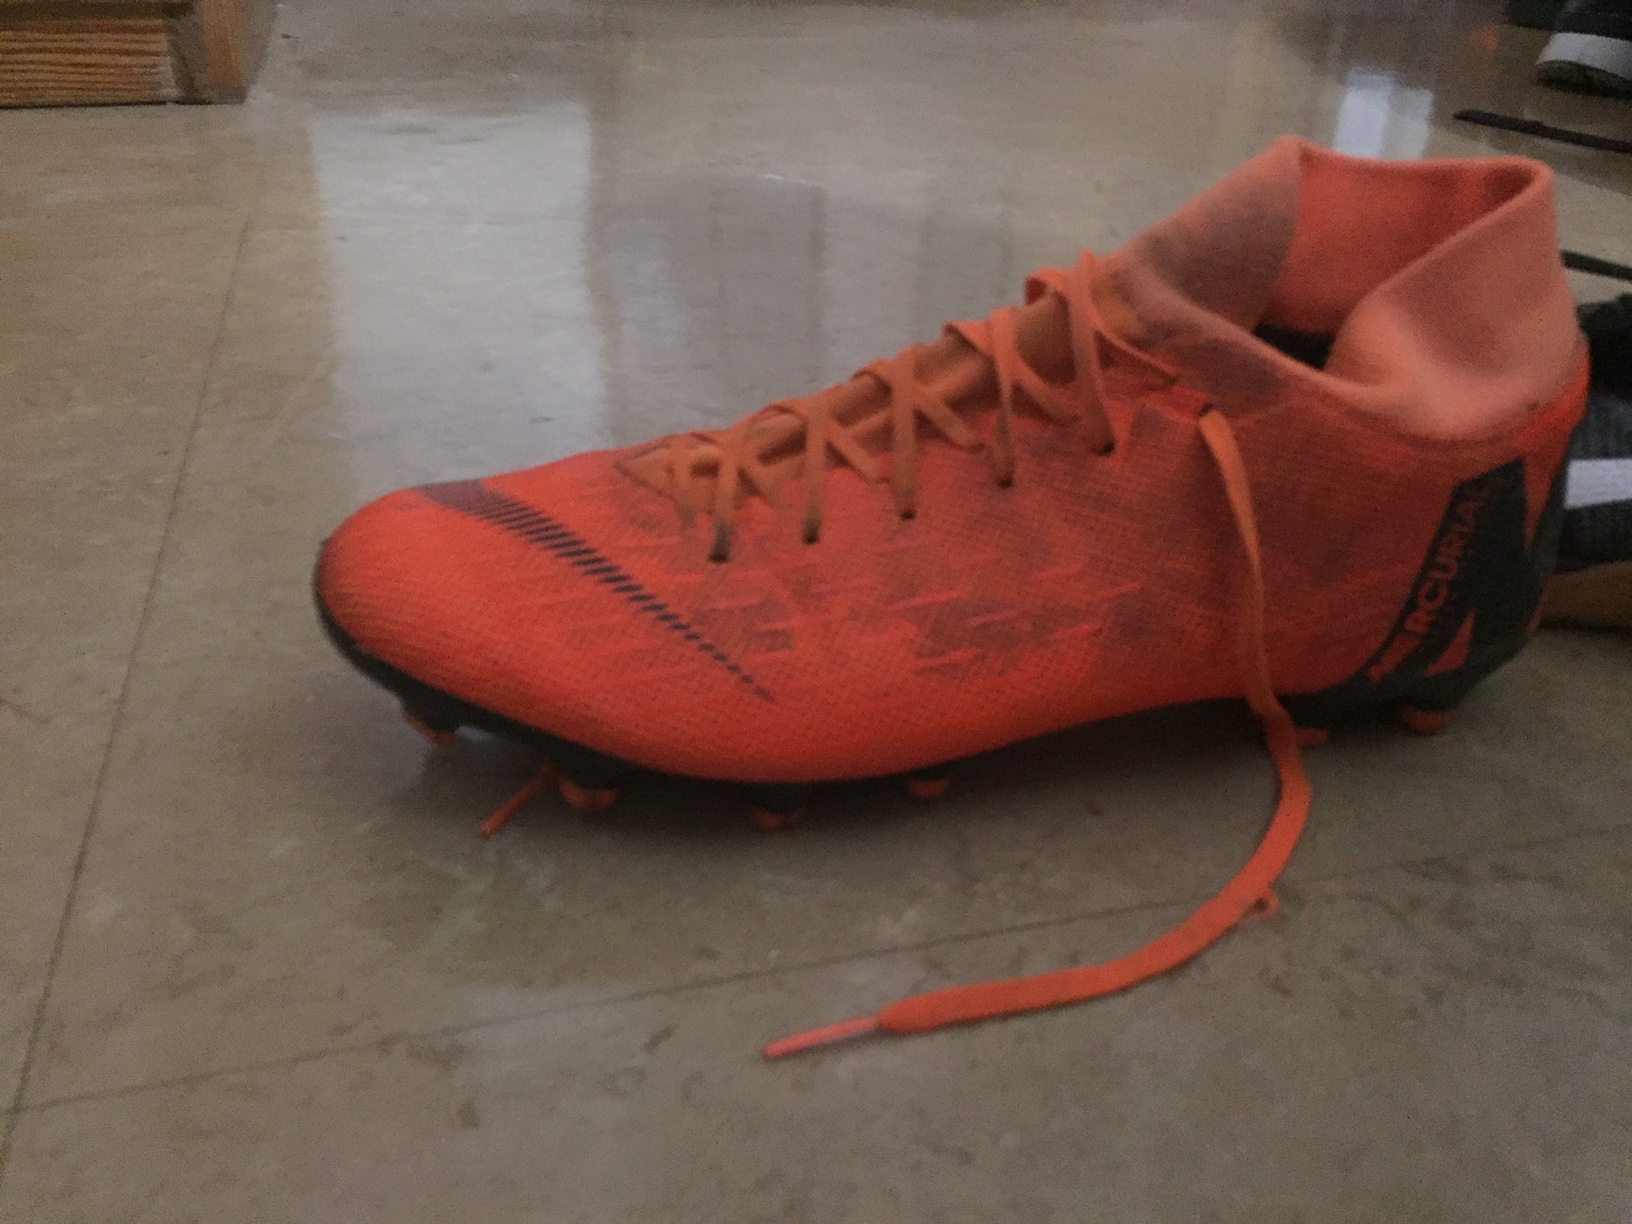car: (307, 132, 1595, 832)
